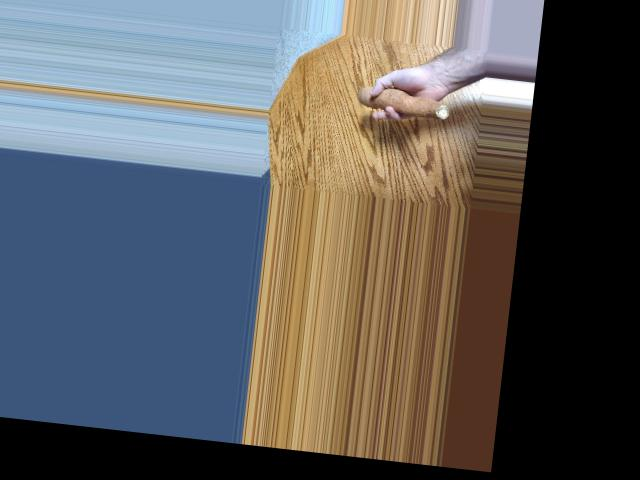sweet_potato: (350, 89, 454, 123)
